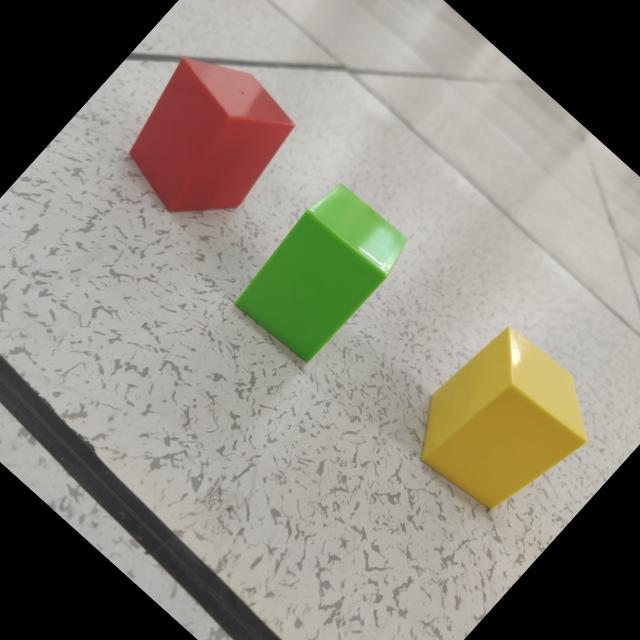green: (233, 184, 406, 364)
red: (128, 58, 293, 214)
yellow: (418, 328, 585, 511)
